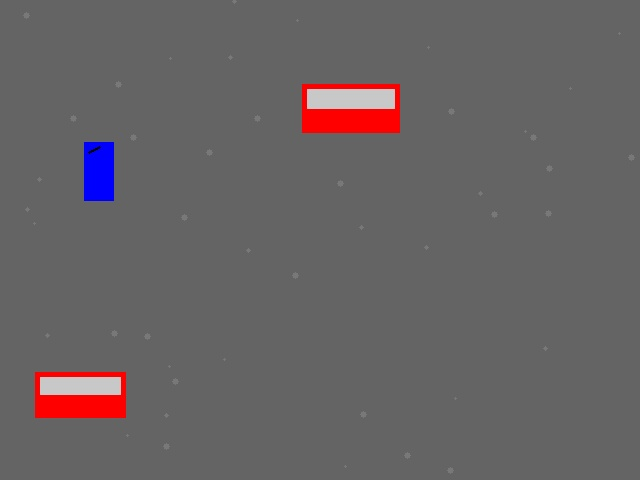car: (302, 84, 399, 132), (35, 372, 125, 417)
motorcycle: (84, 142, 113, 200)
